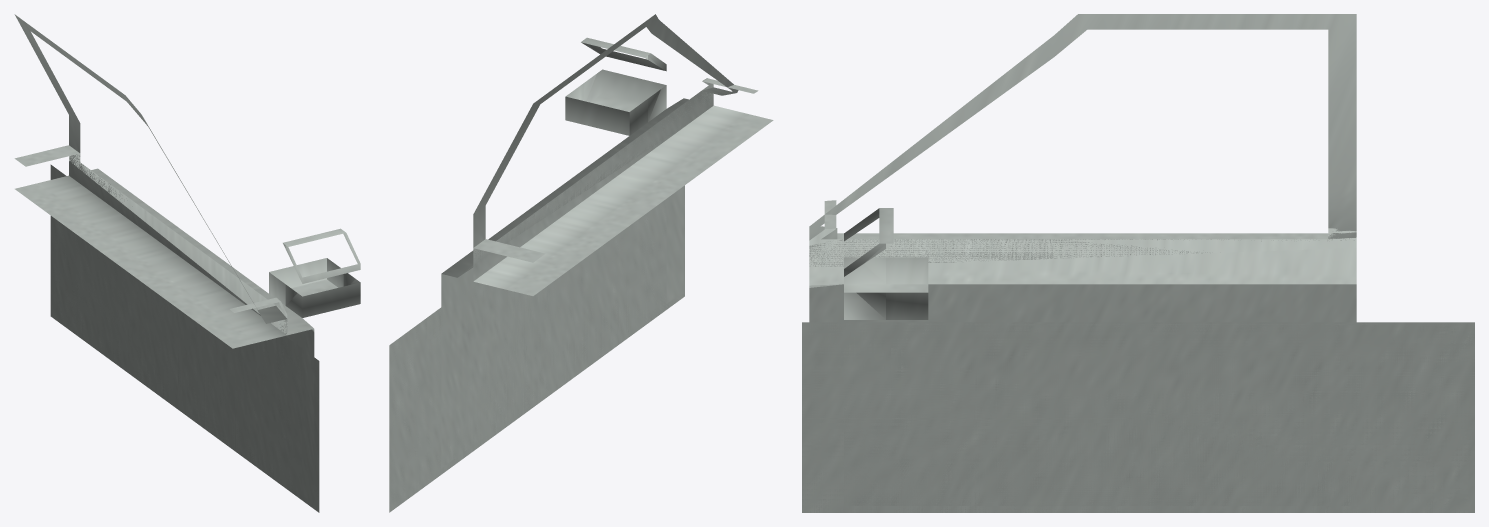
3 renders of one model, left to right at view 1: azimuth 30°, elevation 25°; view 2: azimuth 150°, elevation 25°; view 3: azimuth 270°, elevation 25°, orthographic. The views are drawn at different scales.
Bounding box in the file's own units: 0.39 × 0.94 × 1.28.
Materials: 1 (1 with a texture image).
